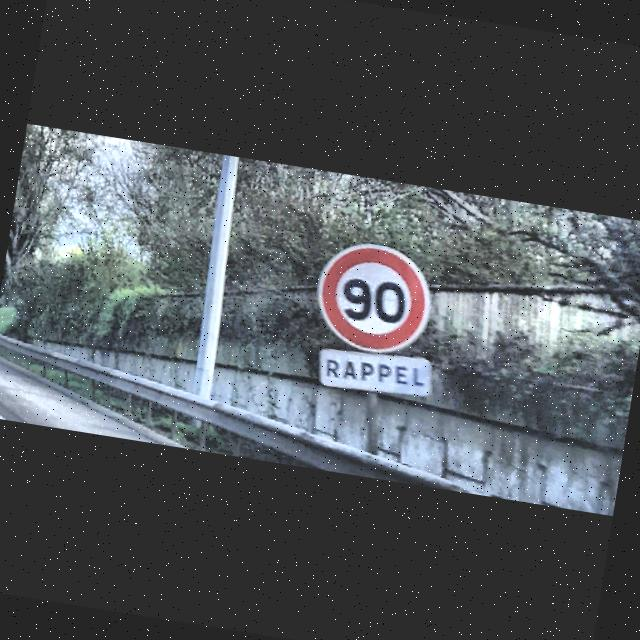speed_90: (309, 235, 439, 362)
